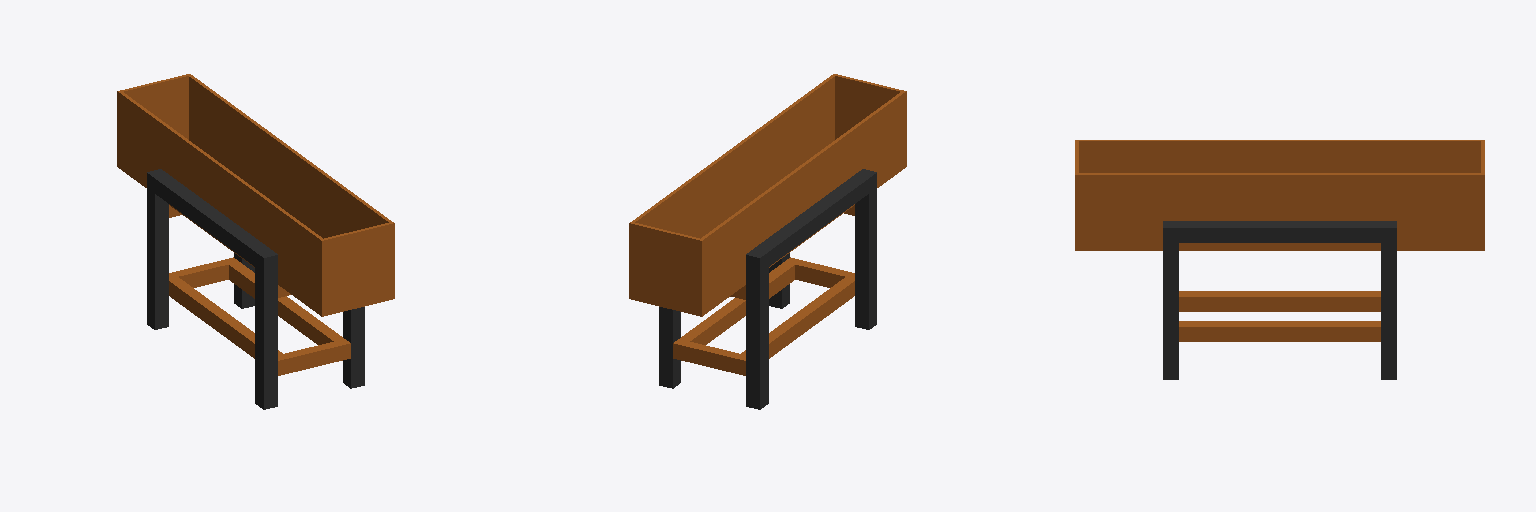
File: jardinero.obj
The picture shows the model from 3 angles: view 1: azimuth 30°, elevation 25°; view 2: azimuth 150°, elevation 25°; view 3: azimuth 270°, elevation 25°; orthographic projection.
Parts seen in each view (by area): view 1: Mesh13 tabla_larga1 Model, Mesh14 tabla_larga2 Model, Mesh16 tabla_corta2 Model, Mesh1 pata1_1 Model, Mesh4 pata1_4 Model, Mesh6 travesa_o2 Model, Mesh15 tabla_corta1 Model, Mesh11 travesa_o_inferior1 Model, Mesh12 travesa_o_inferior2 Model, Mesh2 pata1_2 Model, Mesh9 lateral3 Model, Mesh10 lateral4 Model; view 2: Mesh13 tabla_larga1 Model, Mesh14 tabla_larga2 Model, Mesh15 tabla_corta1 Model, Mesh4 pata1_4 Model, Mesh1 pata1_1 Model, Mesh6 travesa_o2 Model, Mesh16 tabla_corta2 Model, Mesh11 travesa_o_inferior1 Model, Mesh12 travesa_o_inferior2 Model, Mesh3 pata1_3 Model, Mesh10 lateral4 Model, Mesh9 lateral3 Model; view 3: Mesh14 tabla_larga2 Model, Mesh13 tabla_larga1 Model, Mesh5 travesa_o1 Model, Mesh11 travesa_o_inferior1 Model, Mesh12 travesa_o_inferior2 Model, Mesh2 pata1_2 Model, Mesh3 pata1_3 Model.
Boxes of the visible parts, x1,y1,x2,y2 form: Mesh13 tabla_larga1 Model: [117, 90, 324, 316]; Mesh14 tabla_larga2 Model: [187, 74, 394, 299]; Mesh16 tabla_corta2 Model: [324, 223, 390, 315]; Mesh1 pata1_1 Model: [255, 249, 277, 409]; Mesh4 pata1_4 Model: [147, 169, 168, 329]; Mesh6 travesa_o2 Model: [155, 175, 269, 266]; Mesh15 tabla_corta1 Model: [121, 74, 188, 139]; Mesh11 travesa_o_inferior1 Model: [169, 277, 282, 358]; Mesh12 travesa_o_inferior2 Model: [229, 262, 343, 344]; Mesh2 pata1_2 Model: [343, 307, 364, 388]; Mesh9 lateral3 Model: [278, 339, 350, 375]; Mesh10 lateral4 Model: [169, 257, 238, 287]; Mesh13 tabla_larga1 Model: [699, 90, 906, 316]; Mesh14 tabla_larga2 Model: [629, 74, 836, 299]; Mesh15 tabla_corta1 Model: [633, 223, 699, 315]; Mesh4 pata1_4 Model: [746, 249, 768, 409]; Mesh1 pata1_1 Model: [855, 169, 876, 329]; Mesh6 travesa_o2 Model: [754, 175, 868, 266]; Mesh16 tabla_corta2 Model: [835, 74, 902, 139]; Mesh11 travesa_o_inferior1 Model: [741, 277, 854, 358]; Mesh12 travesa_o_inferior2 Model: [680, 262, 794, 344]; Mesh3 pata1_3 Model: [659, 307, 680, 388]; Mesh10 lateral4 Model: [673, 339, 745, 375]; Mesh9 lateral3 Model: [785, 257, 854, 287]; Mesh14 tabla_larga2 Model: [1075, 173, 1484, 250]; Mesh13 tabla_larga1 Model: [1075, 140, 1484, 172]; Mesh5 travesa_o1 Model: [1179, 221, 1380, 242]; Mesh11 travesa_o_inferior1 Model: [1179, 291, 1380, 311]; Mesh12 travesa_o_inferior2 Model: [1179, 321, 1380, 341]; Mesh2 pata1_2 Model: [1163, 221, 1178, 379]; Mesh3 pata1_3 Model: [1381, 221, 1396, 379].
Size of the model in its own units: 35 by 65 by 122.